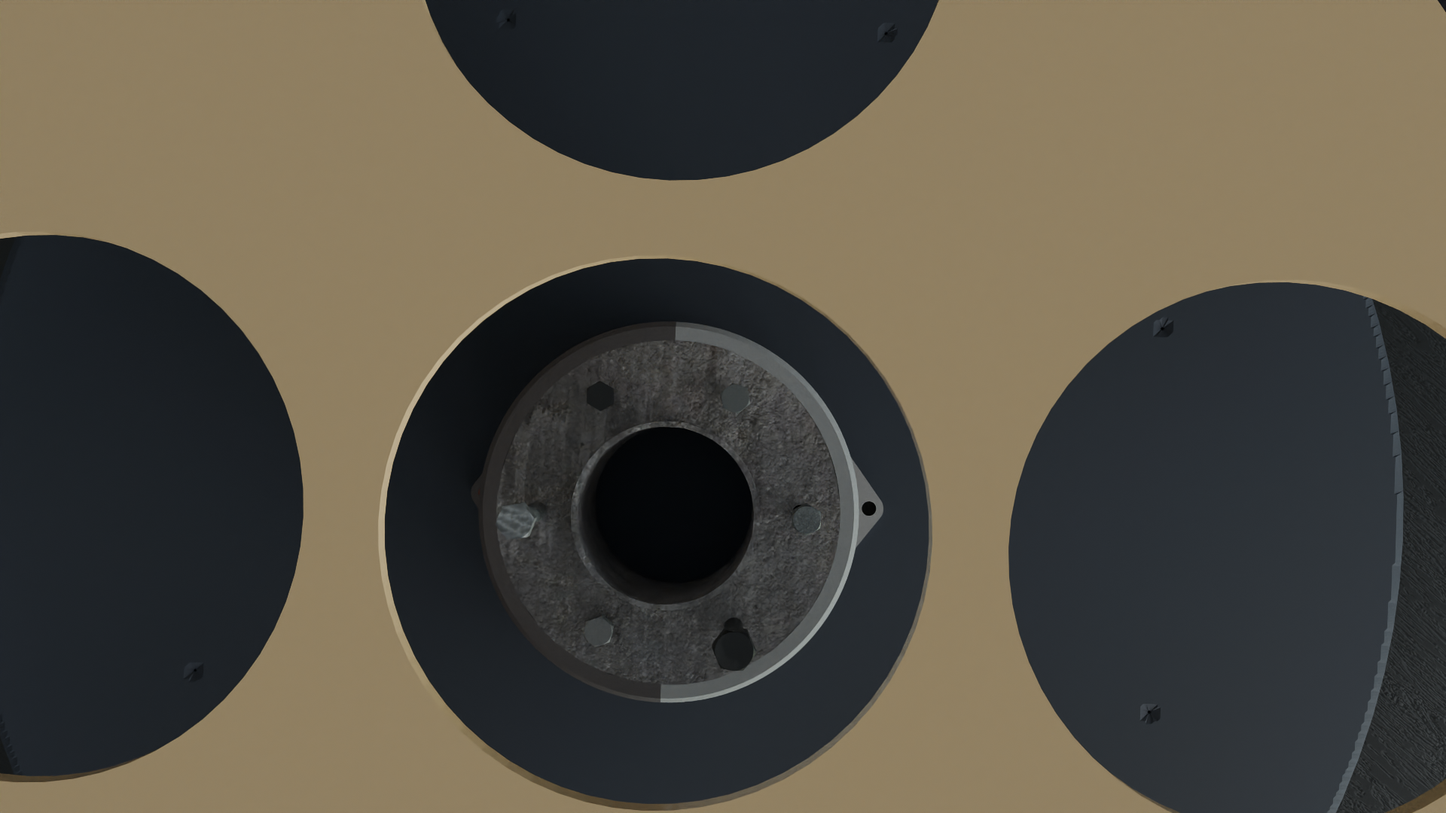bolt: (712, 630, 756, 671), (495, 503, 535, 540), (792, 504, 821, 536), (583, 617, 613, 647), (721, 383, 750, 413), (587, 381, 613, 411)
